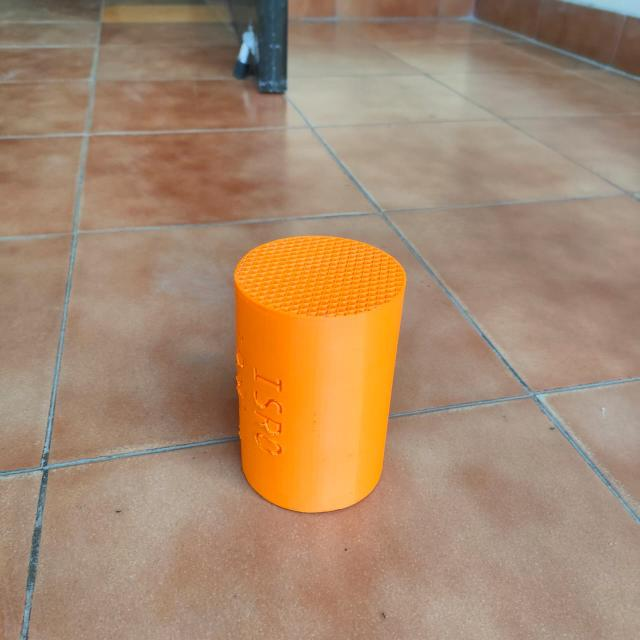Cylinder: (232, 233, 406, 513)
